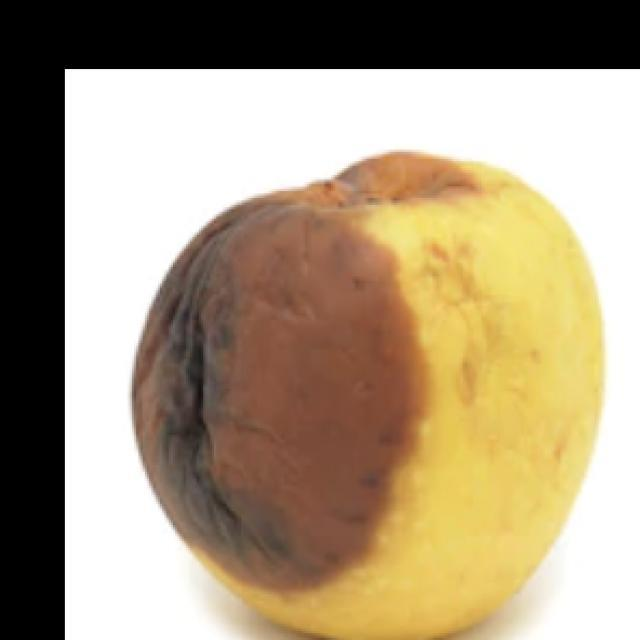Rotten: (127, 138, 623, 640)
